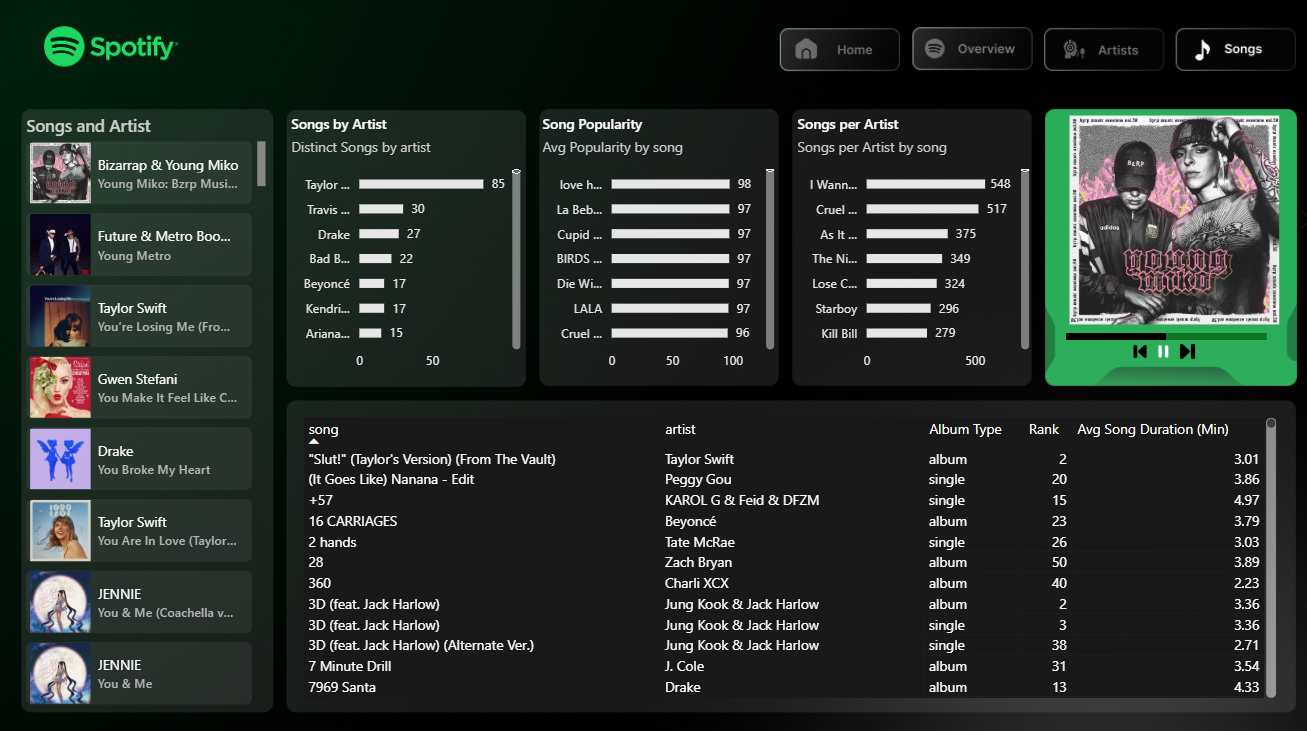

The dashboard page shown, as its layout file describes it:
{"tool":"powerbi","page":{"name":"Song","canvas":[1280,720],"ordinal":3},"visuals":[{"type":"actionButton","box":[758.4,33.3,117,39.8],"z":0},{"type":"actionButton","box":[885,33.3,117,39.8],"z":1000},{"type":"actionButton","box":[1010.5,33.3,117,39.8],"z":2000},{"type":"actionButton","box":[1137.2,33.3,117,39.8],"z":3000},{"type":"clusteredBarChart","title":" Songs by Artist","fields":{"Category":["Top-50 world.artist"],"Y":["Top-50 world.Distinct Songs"]},"box":[279.9,115.8,231.6,255.8],"z":4000},{"type":"clusteredBarChart","title":"Song Popularity","fields":{"Category":["Top-50 world.song"],"Y":["Top-50 world.Avg Popularity"]},"box":[522.4,115.8,234,255.8],"z":5000},{"type":"advancedSlicerVisual","title":"Songs and Artist","fields":{"Values":["Top-50 world.song"]},"box":[995.3,98.7,284.7,238.9],"z":6000},{"type":"advancedSlicerVisual","title":"Songs and Artist","fields":{"Values":["Top-50 world.song"]},"box":[24.1,115.8,241.3,576.7],"z":7000},{"type":"tableEx","fields":{"Values":["Top-50 world.song","Top-50 world.artist","Top-50 world.album_type","Top-50 world.Best Rank","Top-50 world.Avg Song Duration (Min)"]},"box":[290.8,404.2,949.5,279.9],"z":8000},{"type":"hundredPercentStackedBarChart","fields":{"Y":["Top-50 world.Avg Popularity","Top-50 world.Avg Popularity Clean"]},"box":[1027.8,295.3,203.9,63.9],"z":9000},{"type":"image","box":[1012.4,338,184.6,14.5],"z":10000},{"type":"image","box":[1011,339,231.6,12.1],"z":11000},{"type":"image","box":[1128,336.6,44.6,16.9],"z":12000},{"type":"clusteredBarChart","title":"Songs per Artist","fields":{"Category":["Top-50 world.song"],"Y":["Top-50 world.Songs per Artist"]},"box":[768.5,115.8,234,255.8],"z":13000}]}

Visuals, with their boxes in screenshot pixels (x1, y1, x2, y2), scaled from the page's 1280x720 canvas onto the 1307x731 screenshot:
actionButton: detection(774, 34, 894, 74)
actionButton: detection(904, 34, 1023, 74)
actionButton: detection(1032, 34, 1151, 74)
actionButton: detection(1161, 34, 1281, 74)
" Songs by Artist" clusteredBarChart: detection(286, 118, 522, 377)
"Song Popularity" clusteredBarChart: detection(533, 118, 772, 377)
"Songs and Artist" advancedSlicerVisual: detection(1016, 100, 1306, 343)
"Songs and Artist" advancedSlicerVisual: detection(25, 118, 271, 703)
tableEx - Top-50 world.song x Top-50 world.artist: detection(297, 410, 1266, 695)
hundredPercentStackedBarChart - Top-50 world.Avg Popularity x Top-50 world.Avg Popularity Clean: detection(1049, 300, 1258, 365)
image: detection(1034, 343, 1222, 358)
image: detection(1032, 344, 1269, 356)
image: detection(1152, 342, 1197, 359)
"Songs per Artist" clusteredBarChart: detection(785, 118, 1024, 377)
